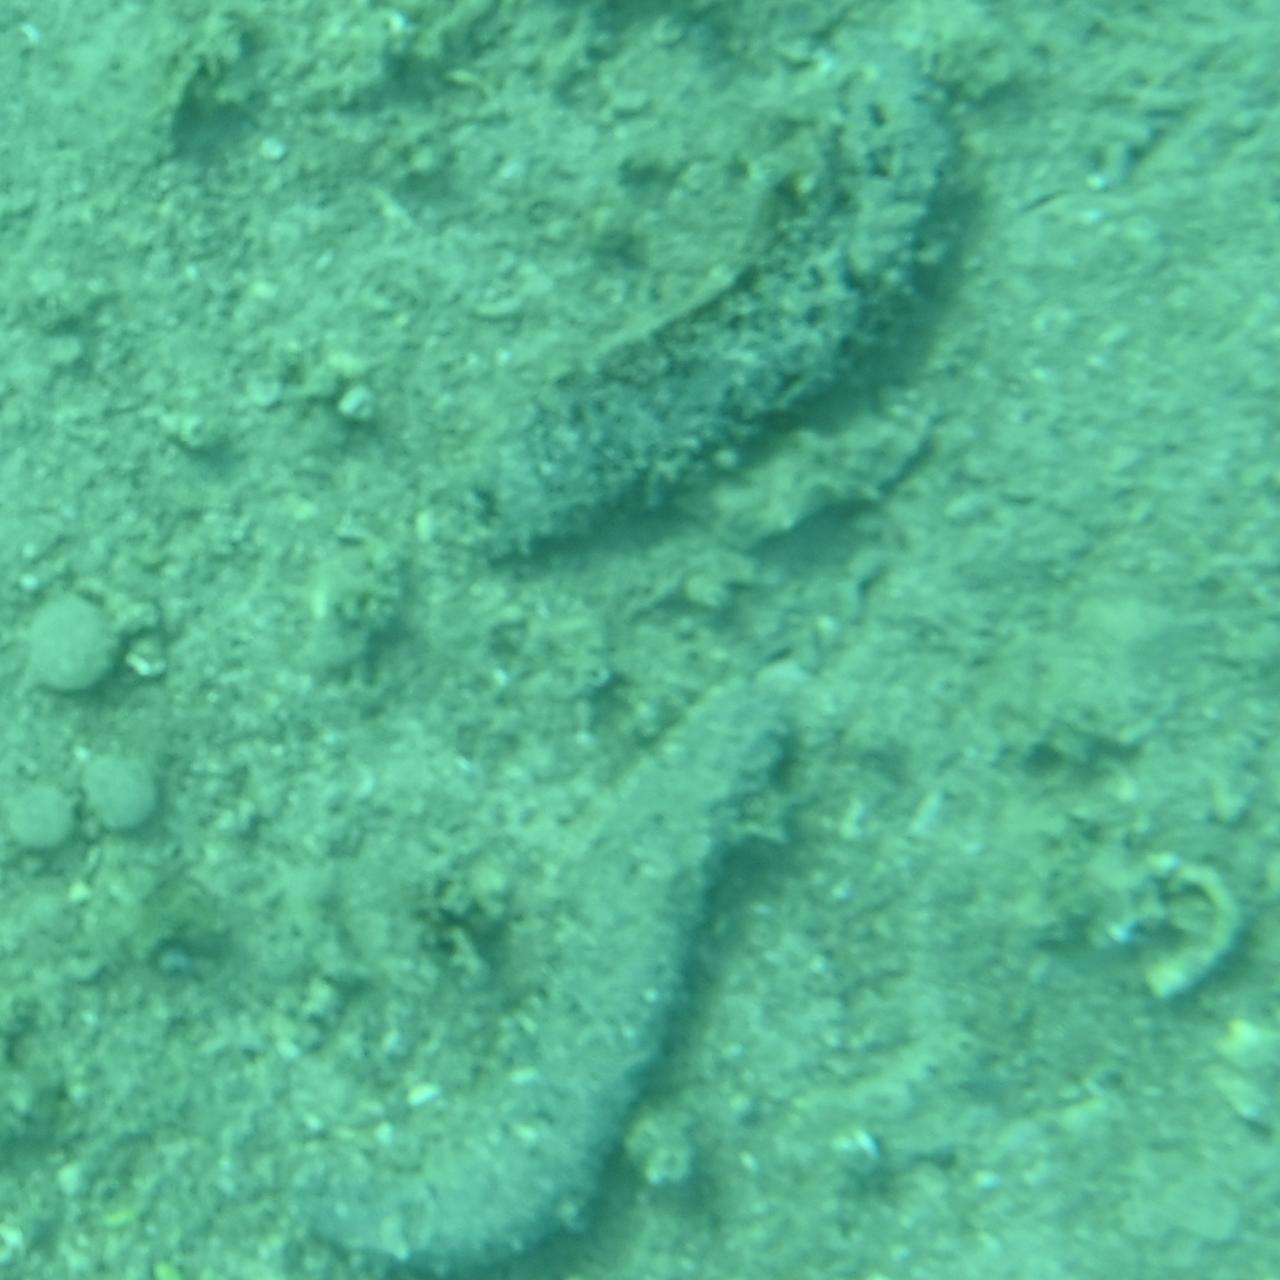Holothuria tubulosa: (274, 654, 850, 1280), (458, 47, 978, 553)
